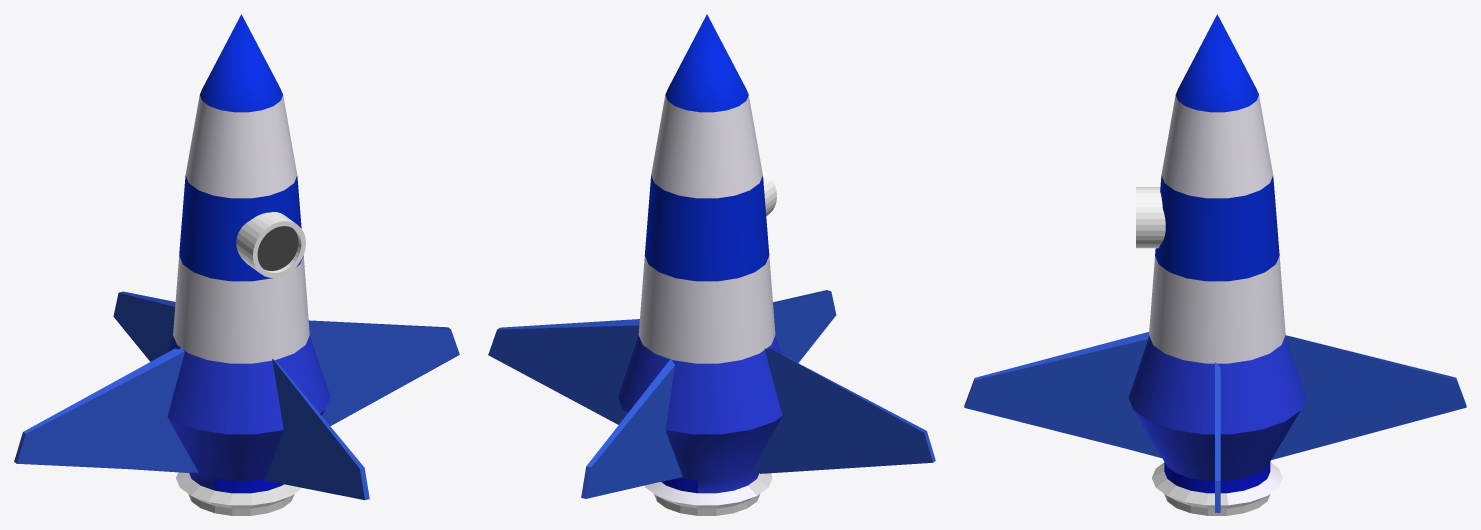
The model's file is elemento.glb.
3 renders of one model, left to right at view 1: azimuth 30°, elevation 25°; view 2: azimuth 150°, elevation 25°; view 3: azimuth 270°, elevation 25°, orthographic.
Parts seen in each view (by area): view 1: Cuerpo, Cuerpo Bajo, Ala.003, Ala.001, Ala, Ala.002, Mitad Cuerpo, Punta, Ala.004, turbina, Cylinder, Cylinder.001 (+1 smaller); view 2: Cuerpo, Cuerpo Bajo, Ala.001, Mitad Cuerpo, Ala.003, Ala.004, Punta, Ala.002, Ala, turbina; view 3: Cuerpo, Cuerpo Bajo, Ala.002, Ala.004, Mitad Cuerpo, Punta, turbina, Cylinder, separado, Ala.003.
Part boxes in pixels (x1,y1,x2,y2): Cuerpo: [173, 95, 309, 487]; Cuerpo Bajo: [167, 335, 330, 490]; Ala.003: [308, 320, 459, 425]; Ala.001: [14, 348, 197, 472]; Ala: [26, 347, 196, 469]; Ala.002: [265, 359, 369, 500]; Mitad Cuerpo: [179, 175, 303, 281]; Punta: [200, 14, 282, 112]; Ala.004: [113, 291, 175, 361]; turbina: [180, 479, 301, 515]; Cylinder: [236, 212, 305, 277]; Cylinder.001: [257, 226, 298, 270]; Cuerpo: [638, 95, 775, 505]; Cuerpo Bajo: [618, 335, 782, 493]; Ala.001: [757, 348, 935, 473]; Mitad Cuerpo: [644, 175, 769, 281]; Ala.003: [488, 319, 639, 424]; Ala.004: [581, 358, 682, 498]; Punta: [665, 14, 748, 112]; Ala.002: [773, 290, 836, 362]; Ala: [751, 348, 921, 471]; turbina: [654, 473, 772, 515]; Cuerpo: [1149, 95, 1285, 505]; Cuerpo Bajo: [1128, 335, 1305, 480]; Ala.002: [964, 332, 1161, 458]; Ala.004: [1271, 335, 1466, 459]; Mitad Cuerpo: [1155, 175, 1279, 281]; Punta: [1175, 14, 1258, 112]; turbina: [1152, 462, 1270, 515]; Cylinder: [1136, 187, 1165, 248]; separado: [1164, 462, 1270, 493]; Ala.003: [1215, 362, 1220, 512].
Size of the model in its own units: 7.5 by 7.74 by 7.34.
